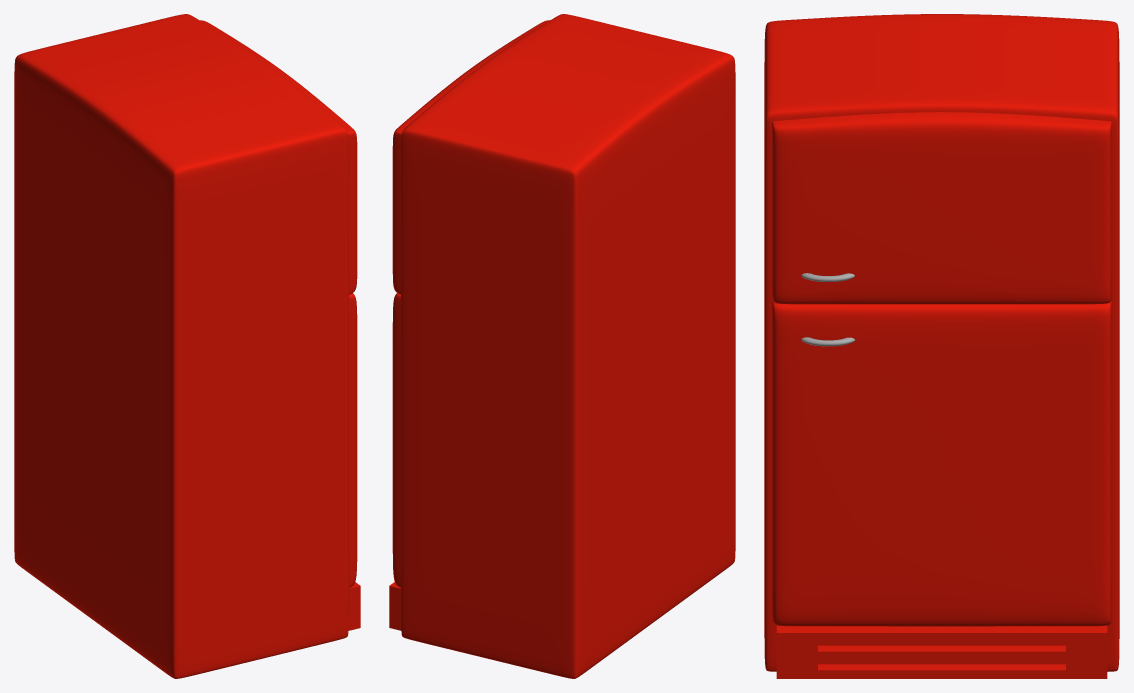
Rendered from Fridge.fbx.
The picture shows the model from 3 angles, left to right: view 1: azimuth 30°, elevation 25°; view 2: azimuth 150°, elevation 25°; view 3: azimuth 270°, elevation 25°; orthographic projection. The views are drawn at different scales.
Parts seen in each view (by area): view 1: Cube, Cube.002, Cube.003, Cube.001; view 2: Cube, Cube.002, Cube.003, Cube.001; view 3: Cube.002, Cube.003, Cube, Cube.001.
Part boxes in pixels (x1,y1,x2,y2): Cube: (14, 14, 348, 678); Cube.002: (349, 293, 357, 587); Cube.003: (200, 20, 357, 294); Cube.001: (348, 582, 360, 630); Cube: (401, 14, 735, 678); Cube.002: (392, 293, 400, 587); Cube.003: (392, 20, 549, 294); Cube.001: (389, 582, 401, 630); Cube.002: (772, 301, 1111, 626); Cube.003: (772, 112, 1111, 304); Cube: (764, 14, 1119, 671); Cube.001: (776, 625, 1107, 678).
Size of the model in its own units: 226 by 559 by 316.
